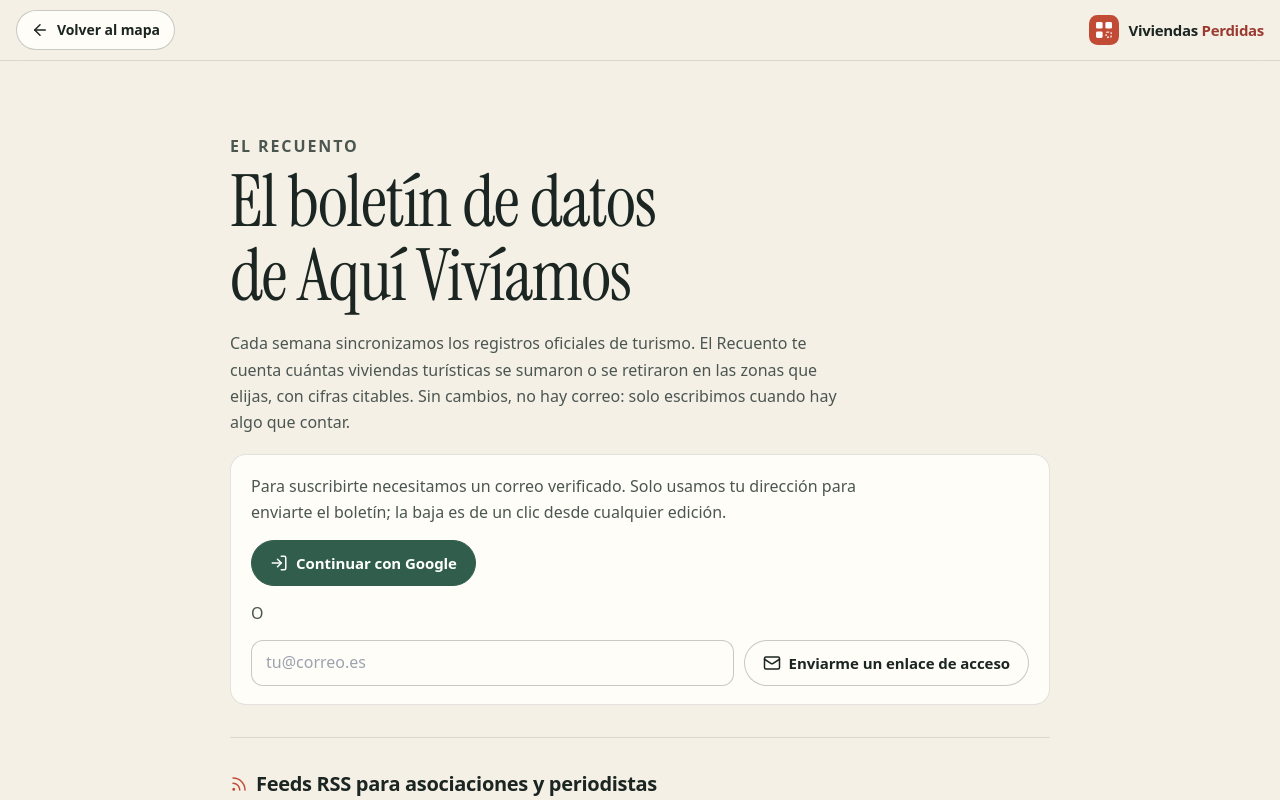
NewsletterPage › distingue un fallo al cargar preferencias de un fallo de login
The width and height of the screenshot is (1280, 800).
Click the button "Continuar con Google": (363, 563) [251, 540, 476, 586]
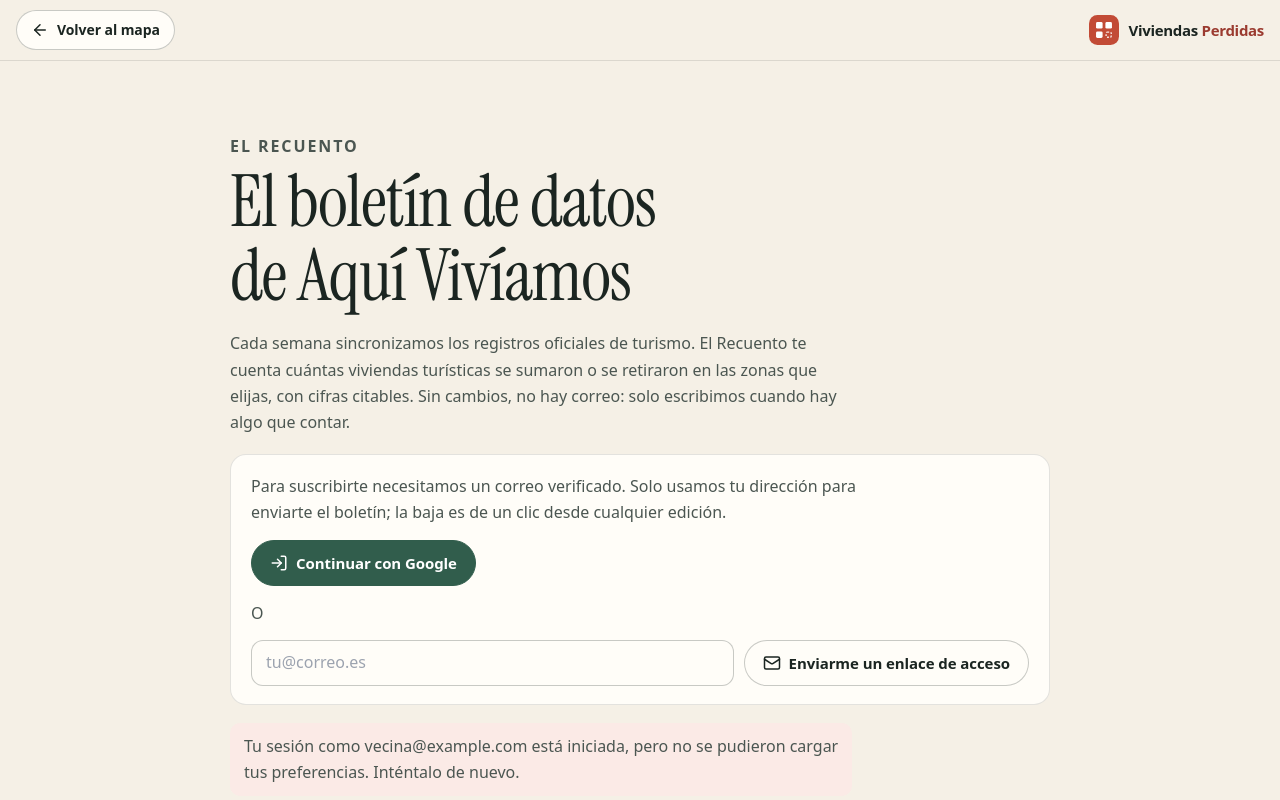
Check: the message shows "no se pudieron cargar tus preferencias", box [244, 735, 838, 783]
Check: the message shows "vecina@example.com", box [244, 735, 838, 783]
